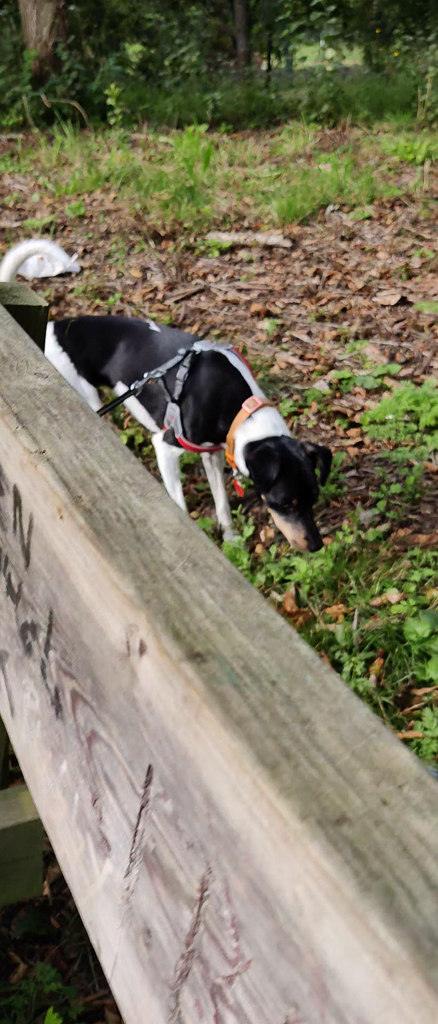Dog: (0, 228, 345, 582)
